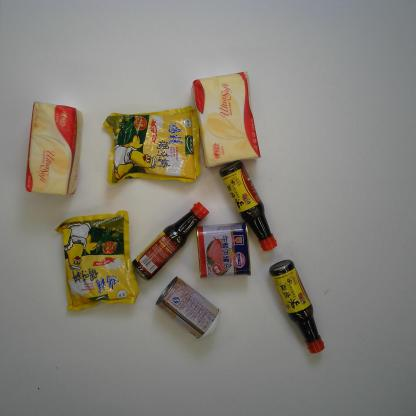Canned Food: (154, 273, 221, 341), (192, 220, 253, 279)
Seasoner: (54, 207, 138, 318), (99, 102, 206, 187), (131, 199, 211, 280), (216, 158, 280, 251), (267, 258, 326, 357)
Tissue: (190, 66, 263, 172), (23, 98, 85, 197)
